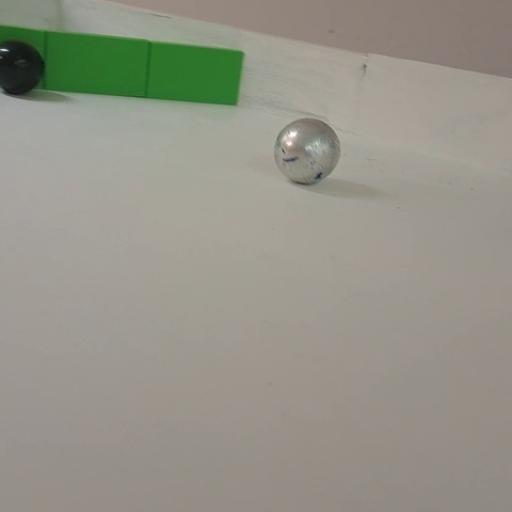alive: (272, 117, 342, 185)
dead: (0, 38, 46, 94)
